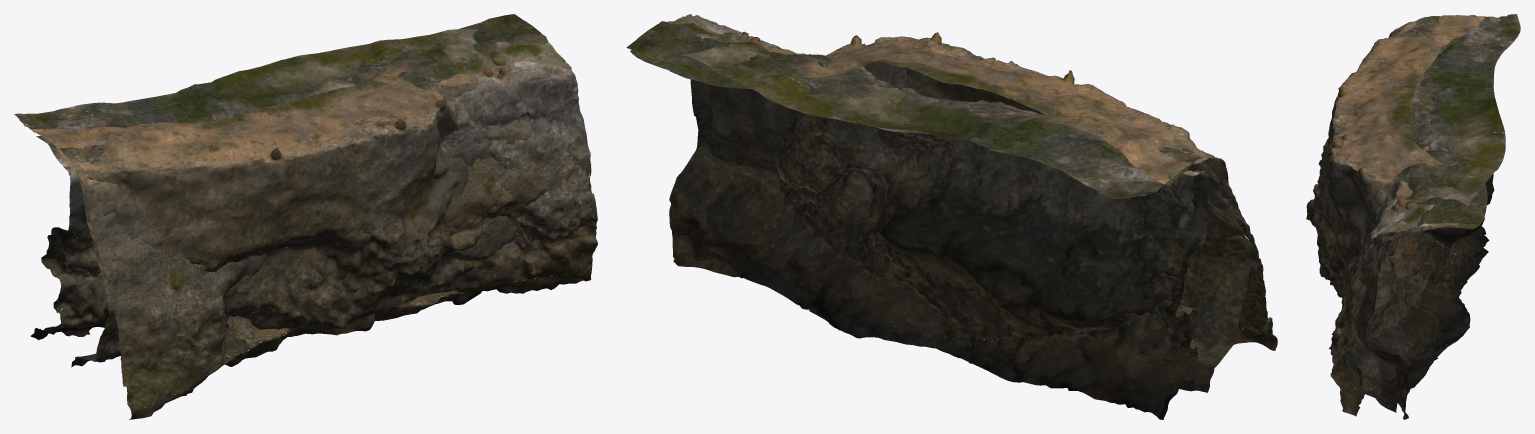
The model's file is driving-rocks.glb.
The picture shows the model from 3 angles, left to right: view 1: azimuth 30°, elevation 25°; view 2: azimuth 150°, elevation 25°; view 3: azimuth 270°, elevation 25°; orthographic projection. The views are drawn at different scales.
Parts seen in each view (by area): view 1: bank-b-lod0, bank-a-lod0, bank-c-lod0; view 2: bank-a-lod0, bank-b-lod0, bank-c-lod0; view 3: bank-a-lod0, bank-b-lod0, bank-c-lod0.
Boxes of the visible parts, left/top/right/bottom form: bank-b-lod0: left=31, top=14, right=597, bottom=367; bank-a-lod0: left=14, top=29, right=594, bottom=340; bank-c-lod0: left=36, top=59, right=561, bottom=419; bank-a-lod0: left=667, top=14, right=1208, bottom=419; bank-b-lod0: left=626, top=18, right=1252, bottom=392; bank-c-lod0: left=630, top=50, right=1277, bottom=350; bank-a-lod0: left=1333, top=14, right=1520, bottom=412; bank-b-lod0: left=1312, top=15, right=1485, bottom=416; bank-c-lod0: left=1306, top=16, right=1487, bottom=419.
Size of what is drawn, in the model's own units: 22.04 by 10.12 by 9.54.
1 material, 1 textured.
